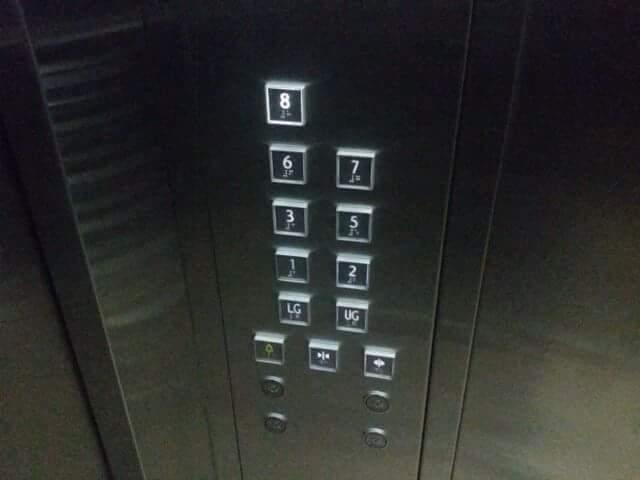1: (271, 246, 315, 286)
2: (333, 249, 372, 292)
3: (270, 195, 312, 239)
5: (333, 199, 376, 244)
6: (265, 139, 311, 188)
7: (332, 145, 380, 193)
8: (260, 80, 311, 128)
LG: (275, 290, 313, 329)
UG: (332, 294, 372, 337)
alarm: (250, 329, 289, 368)
close: (305, 335, 343, 377)
indicator: (361, 387, 393, 416), (257, 374, 288, 402), (361, 426, 392, 453), (261, 409, 290, 435)
open: (360, 342, 399, 383)
